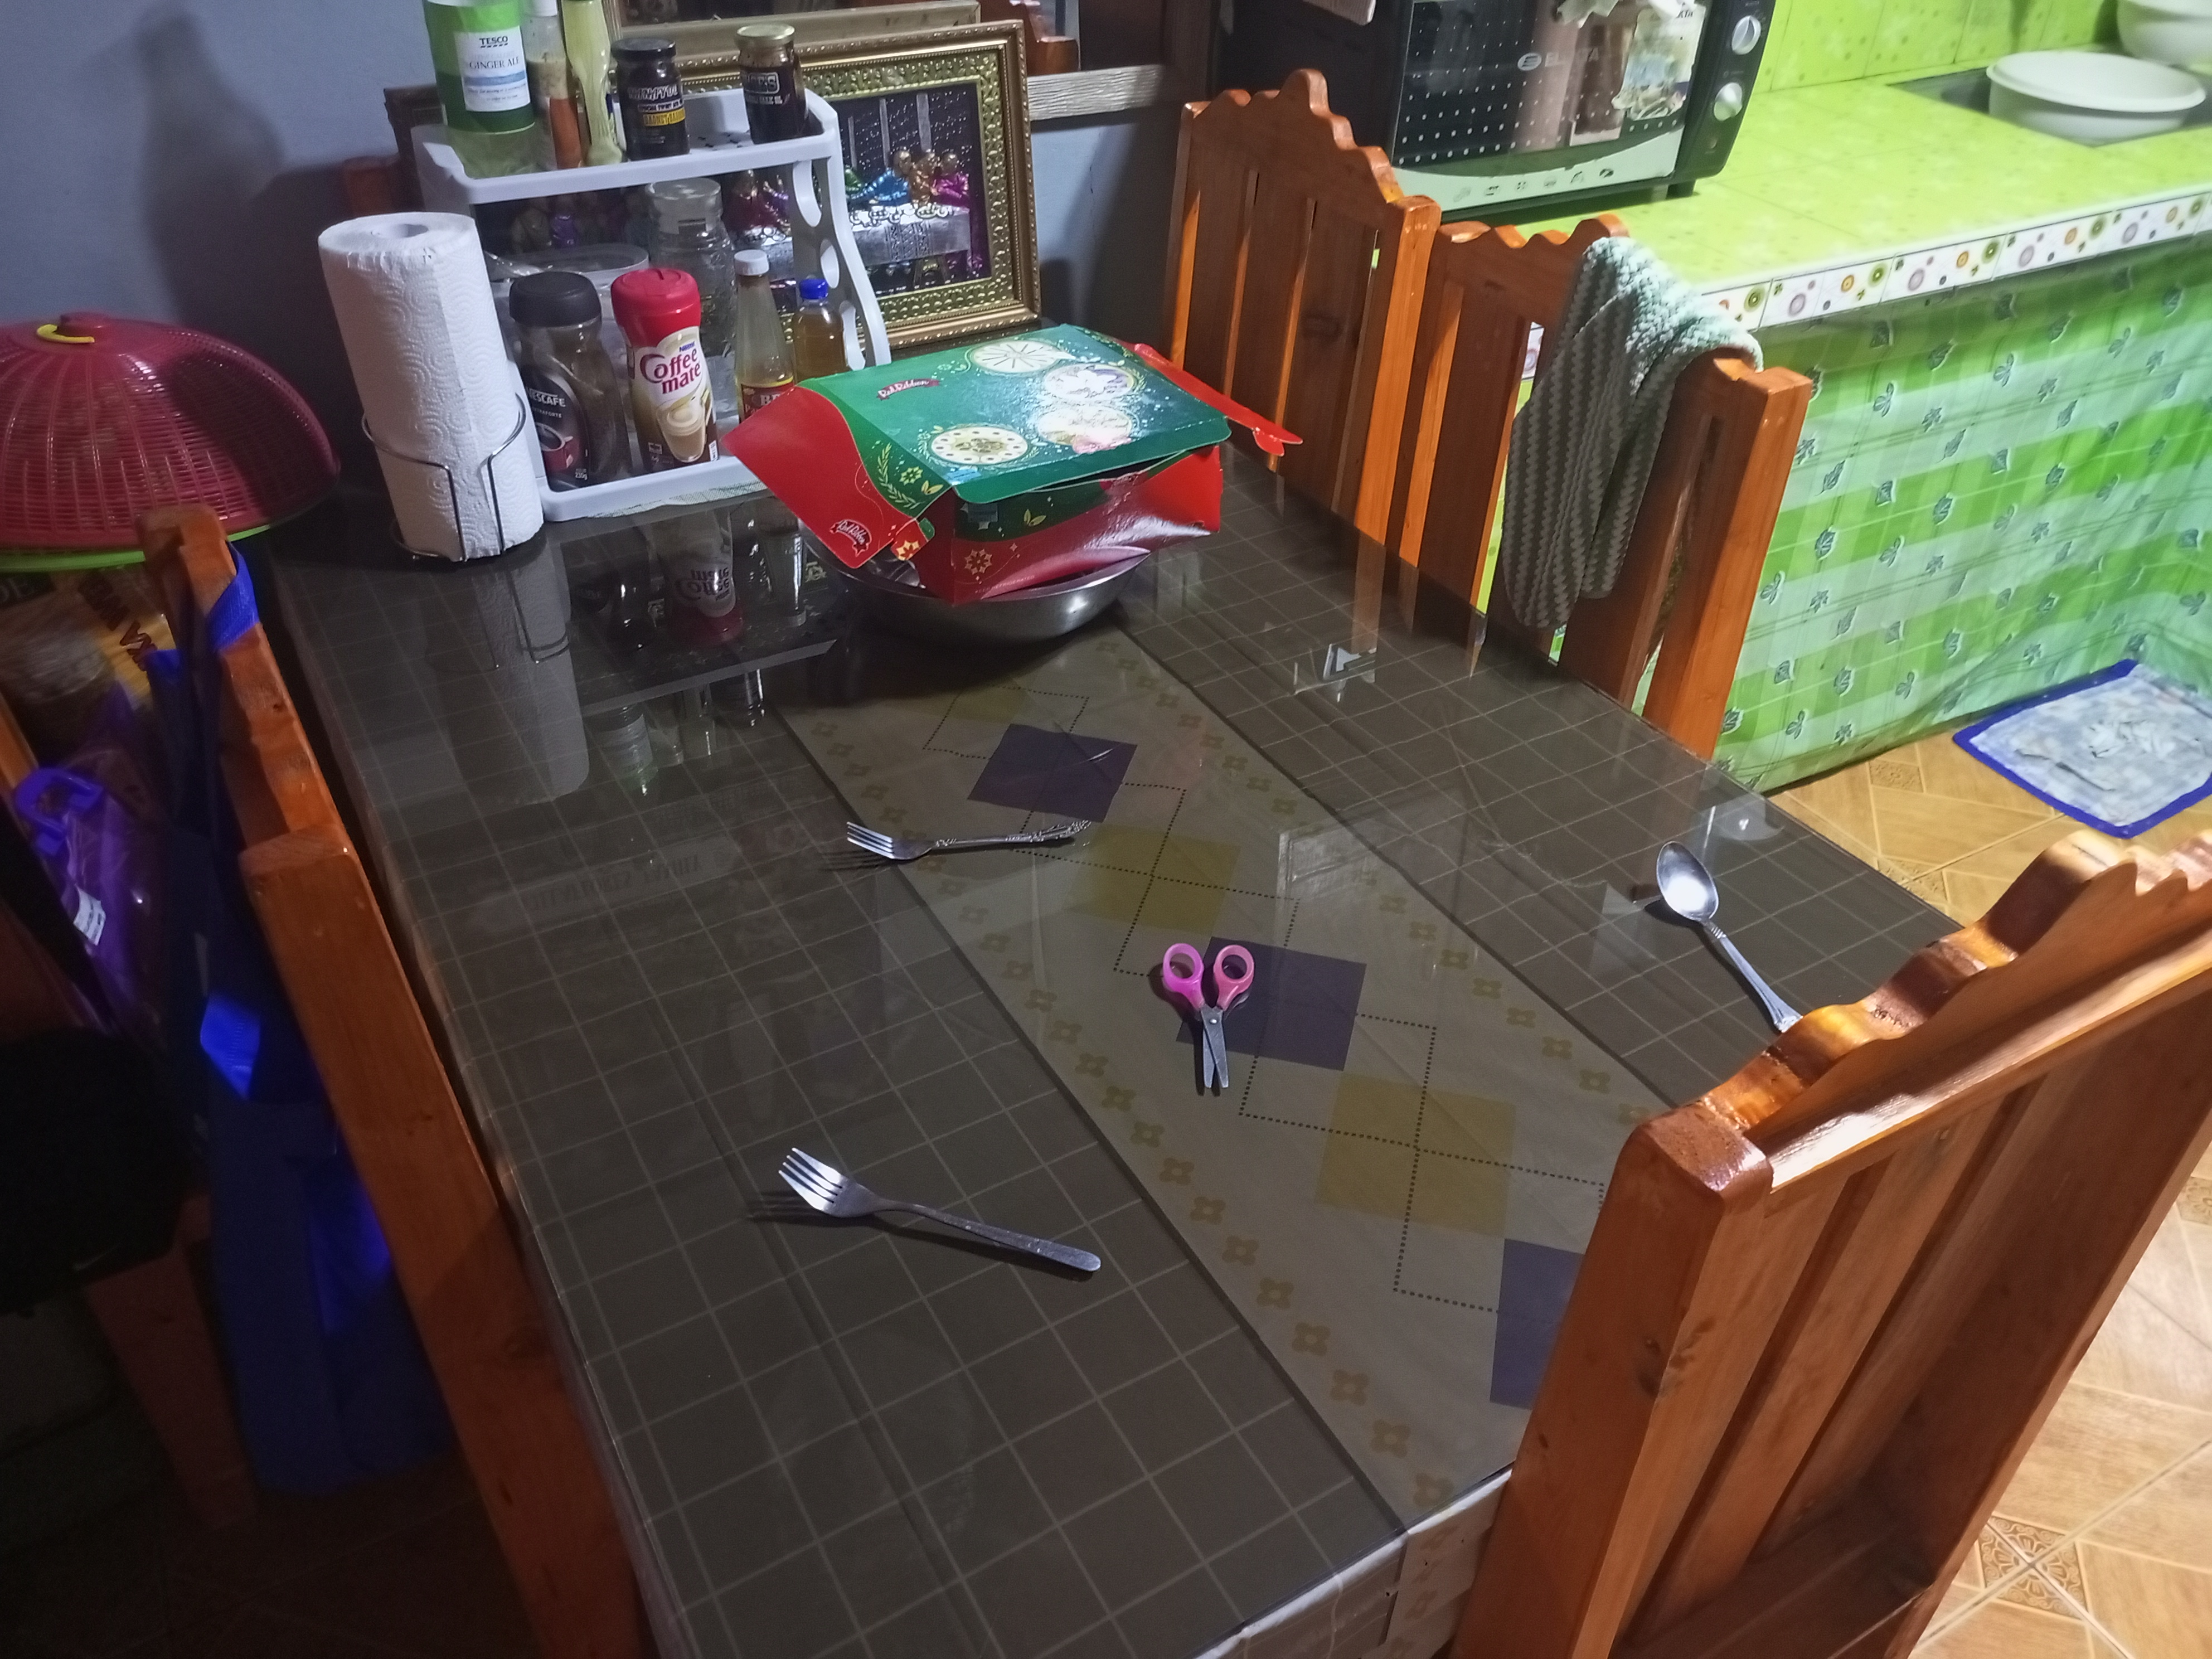fork: (772, 1147, 1104, 1267), (834, 819, 1089, 870)
